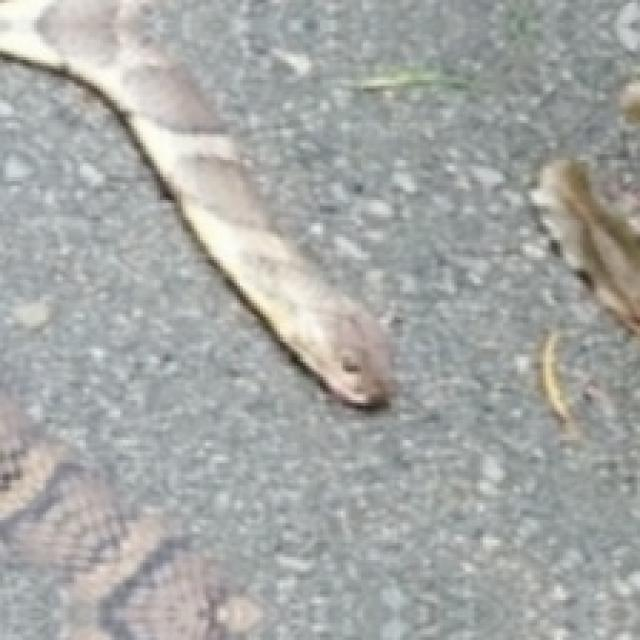king cobra: (0, 0, 389, 406), (0, 394, 260, 637)
